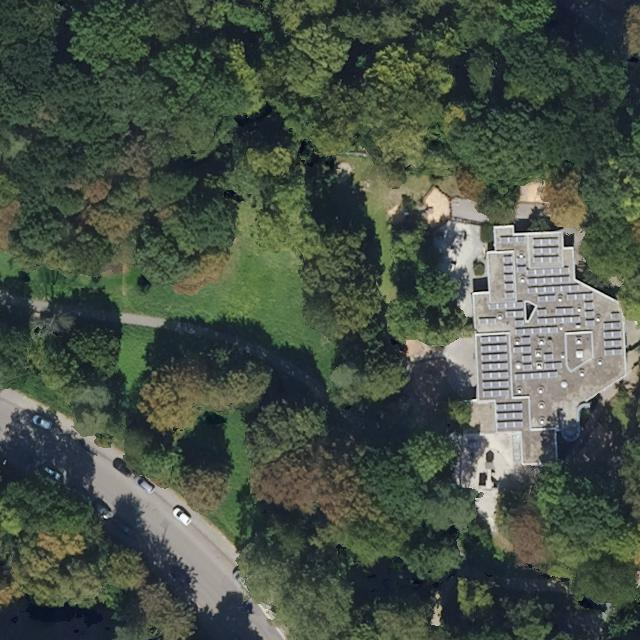PV: (512, 325, 565, 383), (535, 288, 598, 330), (477, 333, 512, 400), (523, 265, 581, 295), (599, 309, 625, 360), (485, 300, 526, 329), (492, 400, 526, 431), (531, 235, 563, 264), (500, 253, 517, 301), (497, 233, 529, 247), (477, 315, 500, 327)
